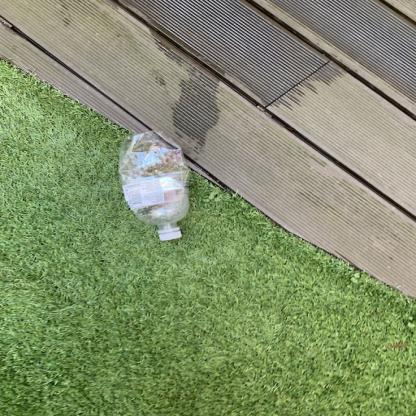trash: (115, 134, 194, 242)
